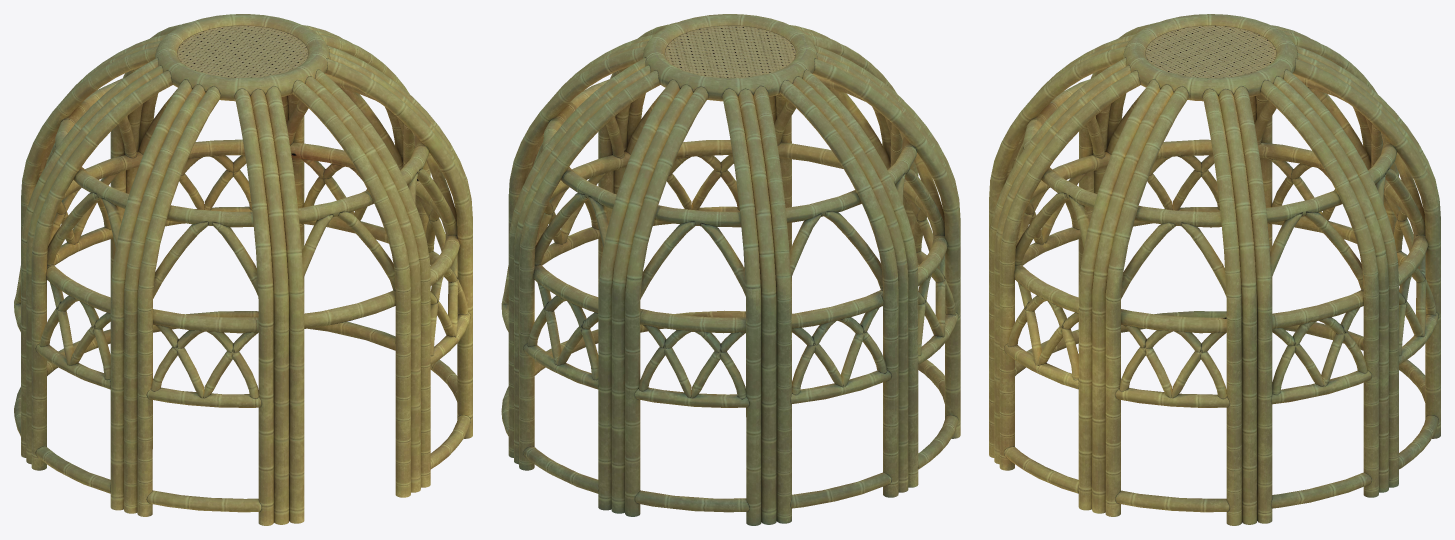
The model's file is BambooFrame_LOD1.glb.
The picture shows the model from 3 angles, left to right: view 1: azimuth 30°, elevation 25°; view 2: azimuth 150°, elevation 25°; view 3: azimuth 270°, elevation 25°; orthographic projection.
Visible parts, largest first — view 1: Bamboo Frame_PROCESSED.001_LOD1; view 2: Bamboo Frame_PROCESSED.001_LOD1; view 3: Bamboo Frame_PROCESSED.001_LOD1.
Boxes of the visible parts, left/top/right/bottom form: Bamboo Frame_PROCESSED.001_LOD1: left=14, top=14, right=472, bottom=525; Bamboo Frame_PROCESSED.001_LOD1: left=501, top=14, right=960, bottom=525; Bamboo Frame_PROCESSED.001_LOD1: left=989, top=14, right=1440, bottom=525.
Size of the model in its own units: 23.72 by 21.8 by 23.38.
Materials: 2 (2 with a texture image).
